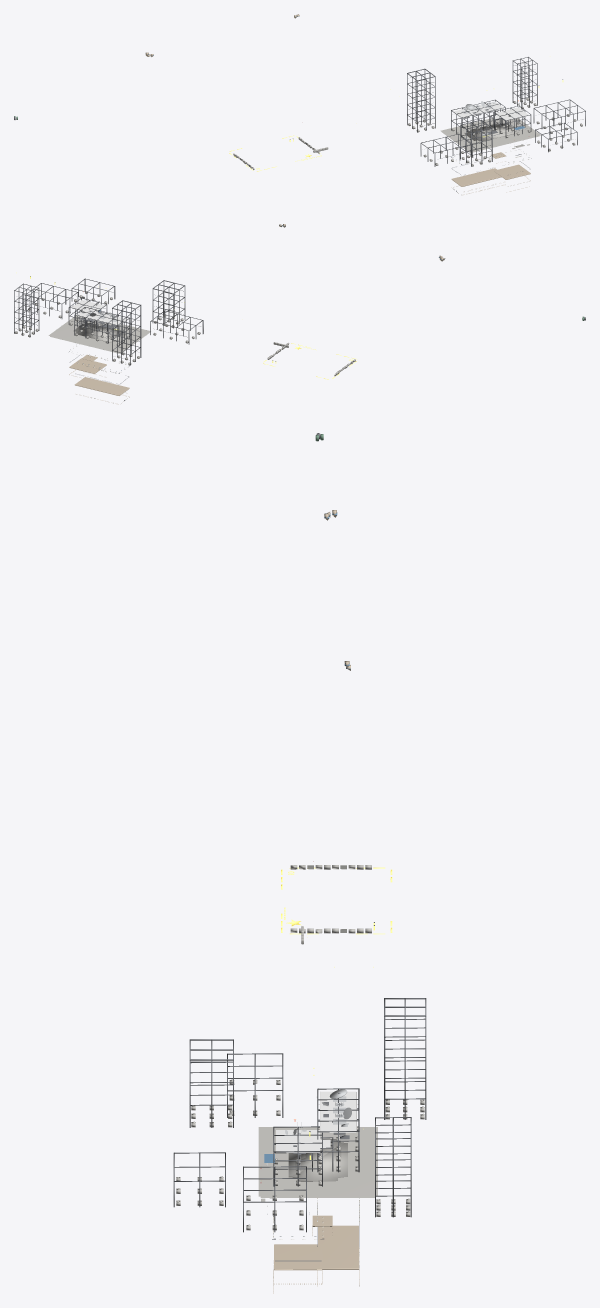
File: command-center.glb
3 renders of one model, top to bottom at view 1: azimuth 30°, elevation 25°; view 2: azimuth 150°, elevation 25°; view 3: azimuth 270°, elevation 25°, orthographic. The views are drawn at different scales.
Visible parts, largest first — view 1: CC_SteelFrame, CC_PadLip, CC_Footings, CC_OpsWing, CC_EntranceWing, CC_OpsRoof, CC_EntRoof; view 2: CC_SteelFrame, CC_PadLip, CC_Footings, CC_OpsWing, CC_EntranceWing, CC_OpsRoof, CC_FloorSlab_Ops1; view 3: CC_SteelFrame, CC_PadLip, CC_Footings, CC_OpsWing, CC_EntranceWing.
Boxes of the visible parts, left/top/right/bottom form: CC_SteelFrame: left=407, top=57, right=585, bottom=166; CC_PadLip: left=440, top=118, right=540, bottom=152; CC_Footings: left=408, top=98, right=582, bottom=166; CC_OpsWing: left=451, top=168, right=501, bottom=186; CC_EntranceWing: left=494, top=164, right=530, bottom=179; CC_OpsRoof: left=453, top=101, right=502, bottom=118; CC_EntRoof: left=496, top=107, right=528, bottom=120; CC_SteelFrame: left=14, top=278, right=203, bottom=365; CC_PadLip: left=48, top=315, right=150, bottom=353; CC_Footings: left=14, top=291, right=200, bottom=365; CC_OpsWing: left=74, top=377, right=129, bottom=395; CC_EntranceWing: left=69, top=358, right=106, bottom=373; CC_OpsRoof: left=76, top=309, right=127, bottom=325; CC_FloorSlab_Ops1: left=73, top=323, right=125, bottom=341; CC_SteelFrame: left=173, top=998, right=426, bottom=1232; CC_PadLip: left=258, top=1127, right=377, bottom=1196; CC_Footings: left=176, top=1079, right=424, bottom=1230; CC_OpsWing: left=318, top=1225, right=358, bottom=1269; CC_EntranceWing: left=274, top=1244, right=322, bottom=1270.
Bounding box in the file's own units: 162 × 60.21 × 31.98.
